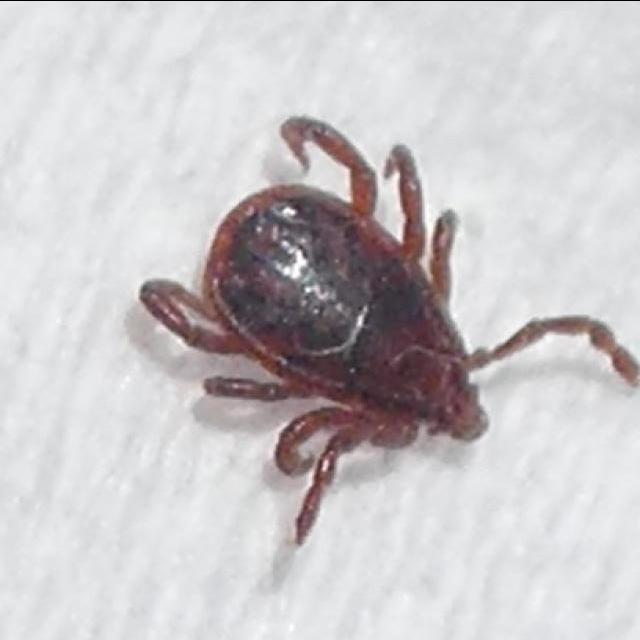Rhipicephalus Sanguineus-M: (136, 115, 640, 549)
